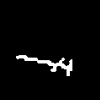double_crochet: (16, 55, 71, 75)
